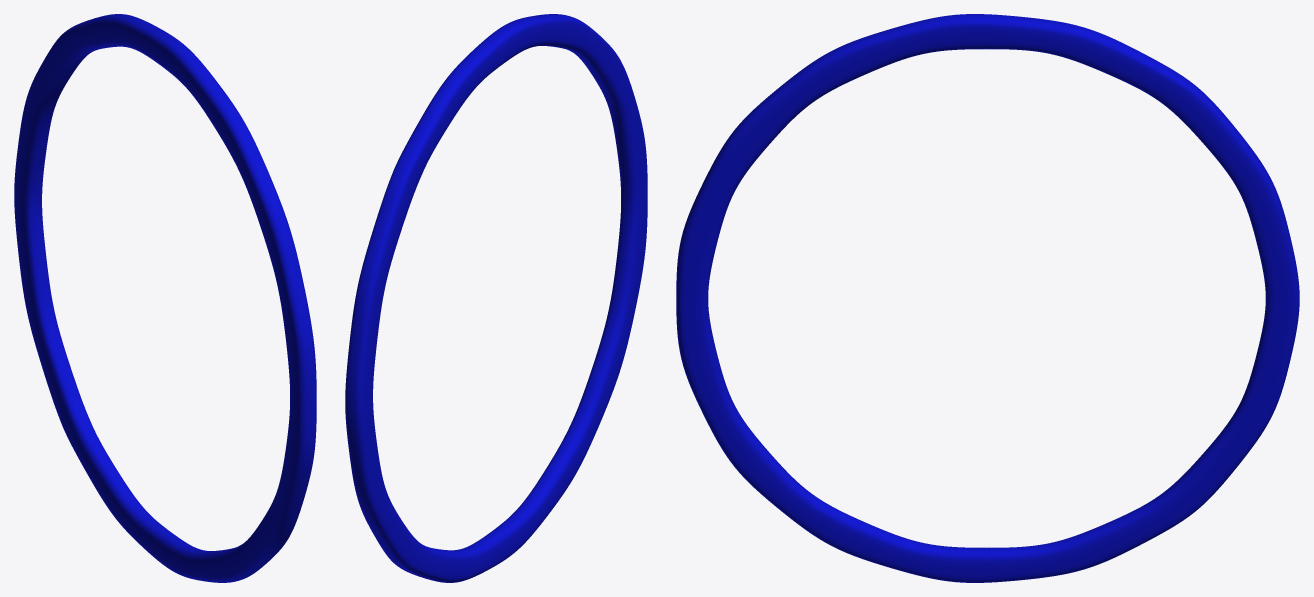
Rendered from pipefront.dae.
3 views of the same model, side by side, from view 1: azimuth 30°, elevation 25°; view 2: azimuth 150°, elevation 25°; view 3: azimuth 270°, elevation 25° (orthographic). The views are drawn at different scales.
Parts seen in each view (by area): view 1: Pipefront; view 2: Pipefront; view 3: Pipefront.
Part boxes in pixels (<box>): Pipefront: <box>14,14,316,582</box>; Pipefront: <box>345,14,647,582</box>; Pipefront: <box>676,14,1299,582</box>.
Bounding box in the file's own units: 9.94 × 275 × 275.
